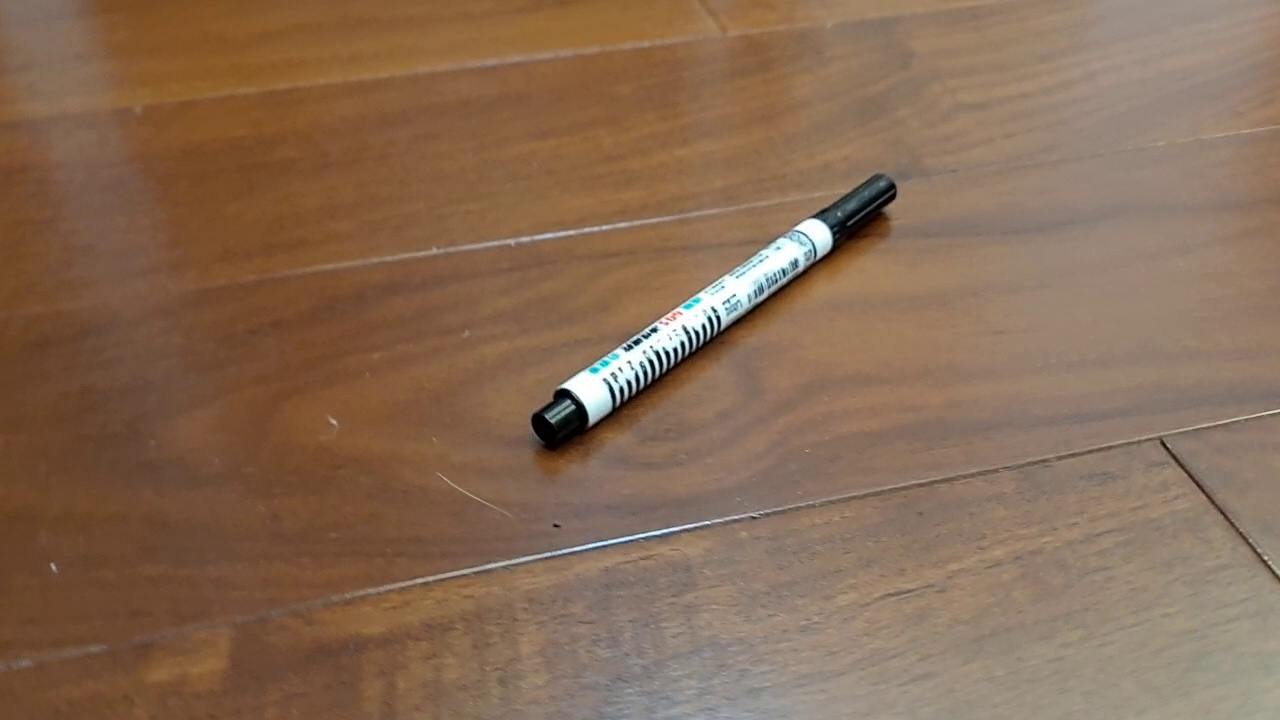pen: (530, 172, 898, 452)
